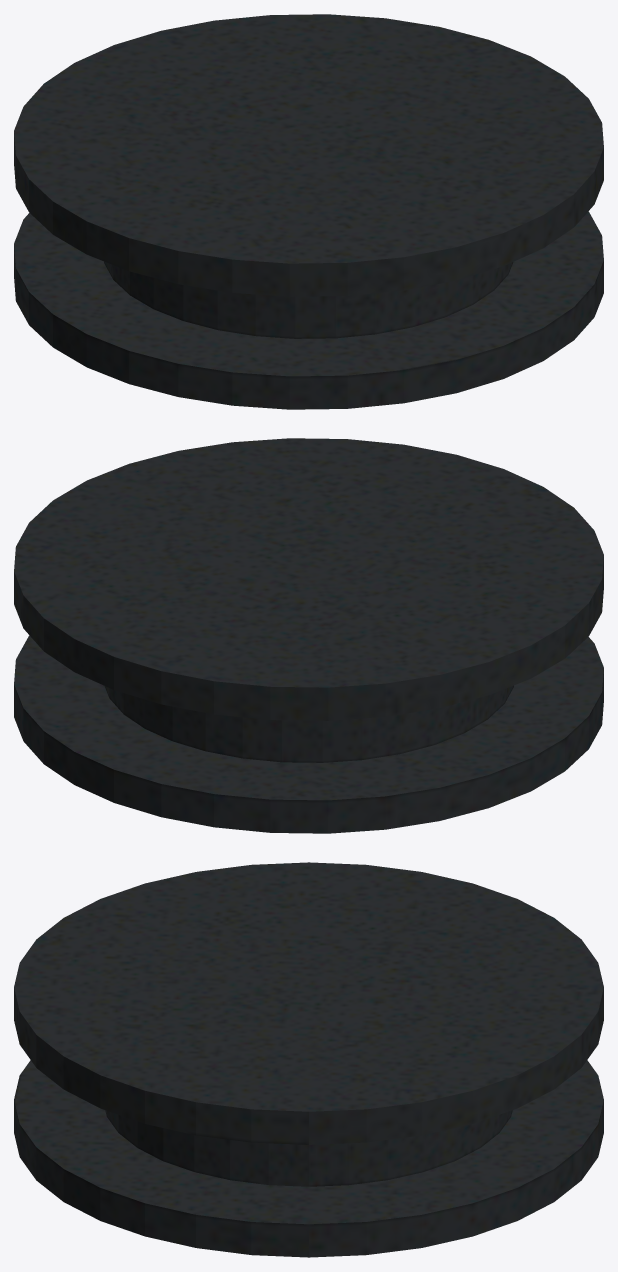
The model's file is wheel.obj.
The picture shows the model from 3 angles, top to bottom: view 1: azimuth 30°, elevation 25°; view 2: azimuth 150°, elevation 25°; view 3: azimuth 270°, elevation 25°; orthographic projection.
Parts seen in each view (by area): view 1: Cylinder; view 2: Cylinder; view 3: Cylinder.
Boxes of the visible parts, bbox=[...] form: Cylinder: bbox=[14, 14, 603, 409]; Cylinder: bbox=[14, 438, 603, 833]; Cylinder: bbox=[14, 862, 603, 1257].
Bounding box in the file's own units: 0.875 × 0.2385 × 0.875.
